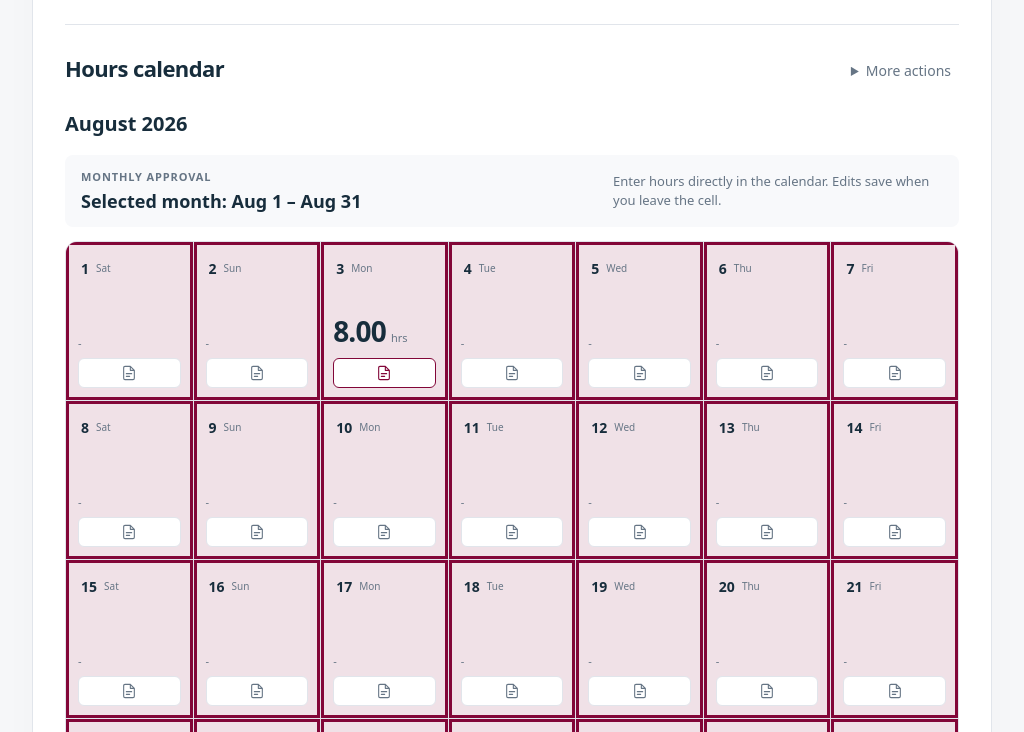
Scenario: daily notes and summary › lets a PROJECT_ADMIN reviewer open populated and empty notes without editing
(page scrolled)
Click the button named "Notes for 2026-08-03".
click(384, 373)  # box x1=333 y1=358 x2=436 y2=388
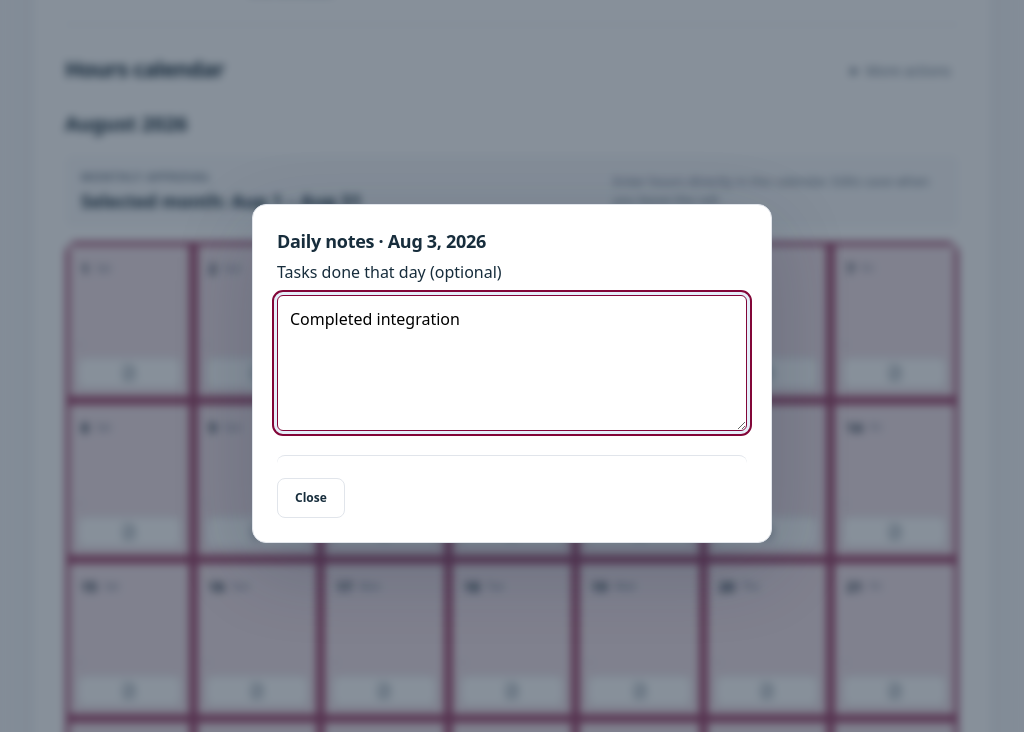
Result: the text box holds "Completed integration" at x1=277 y1=294 x2=747 y2=430
Click the button "Close".
click(311, 498)  # box x1=277 y1=478 x2=345 y2=518
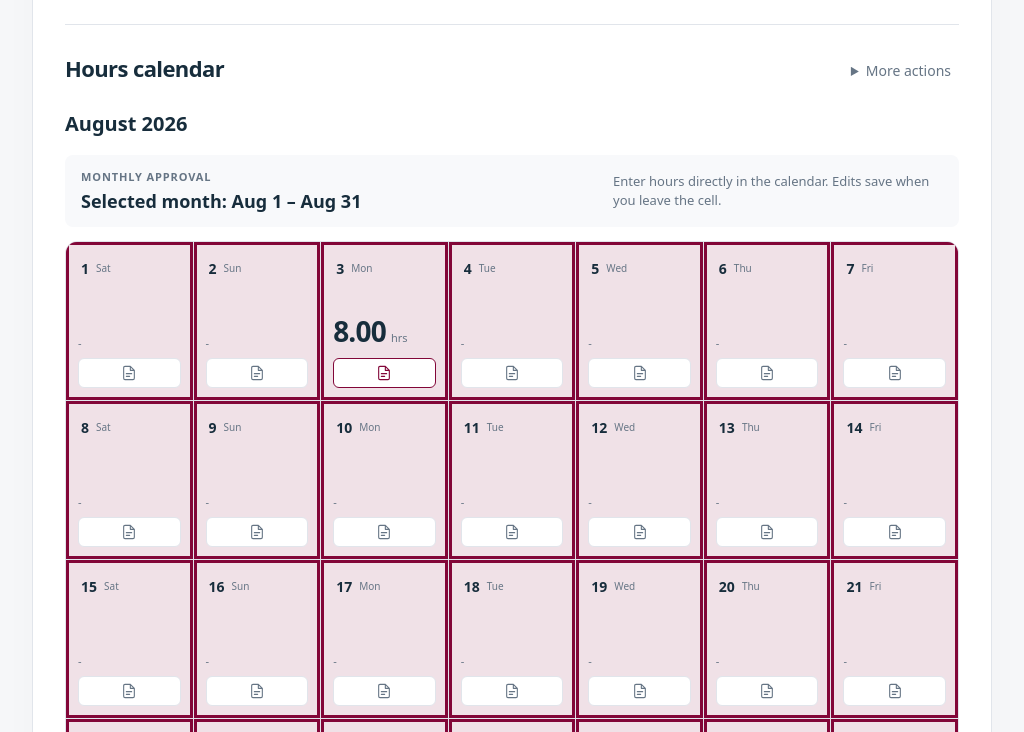
Click the button named "Notes for 2026-08-04".
click(512, 373)  # box x1=461 y1=358 x2=563 y2=388
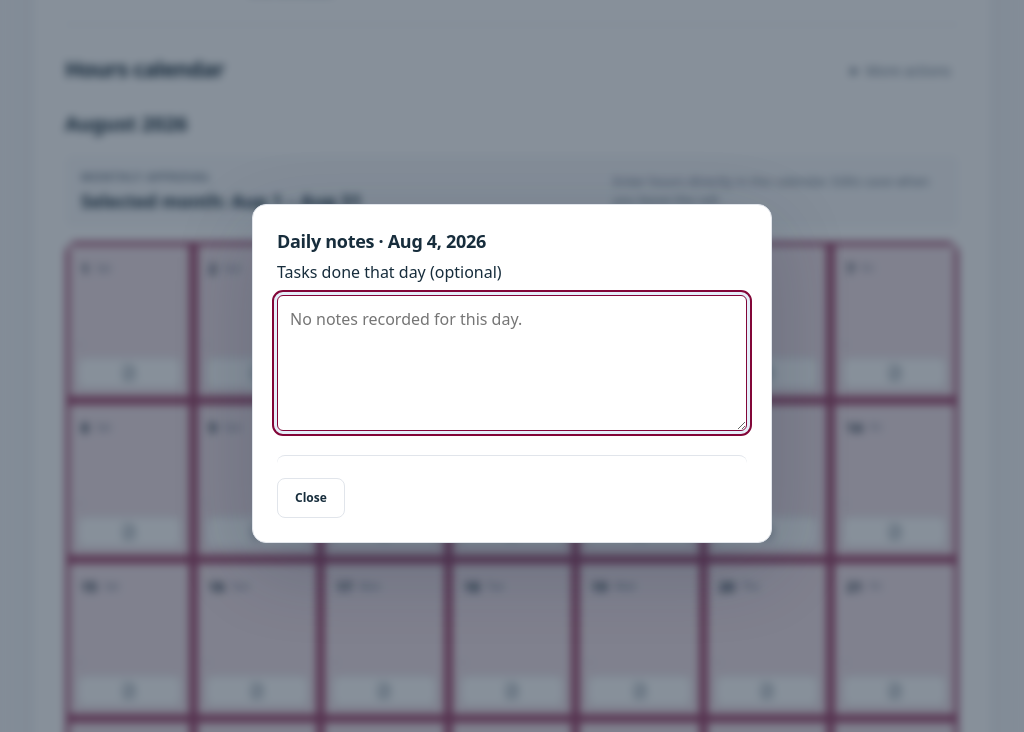
Result: the text box with placeholder "No notes recorded for this day." is shown at x1=277 y1=294 x2=747 y2=430
